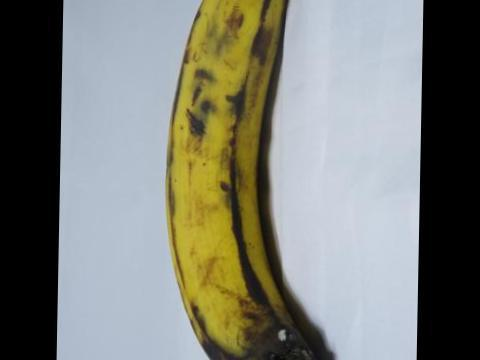overripe: (134, 0, 353, 359)
rotten: (166, 280, 340, 359)
